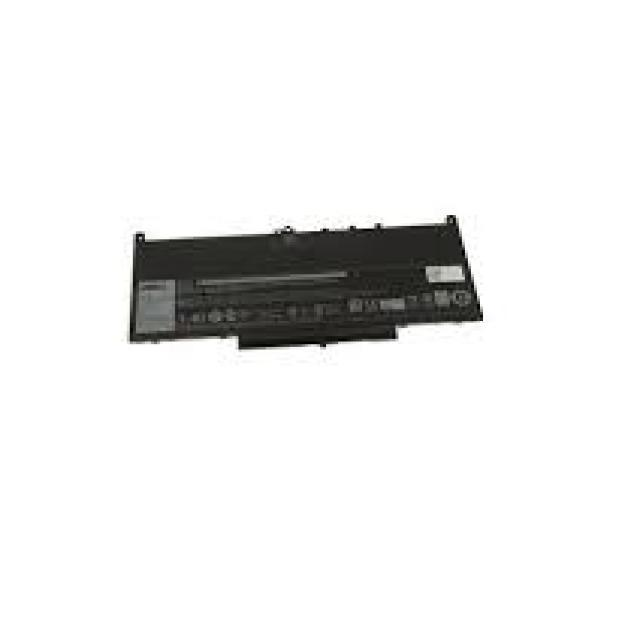Battery: (97, 178, 518, 382)
